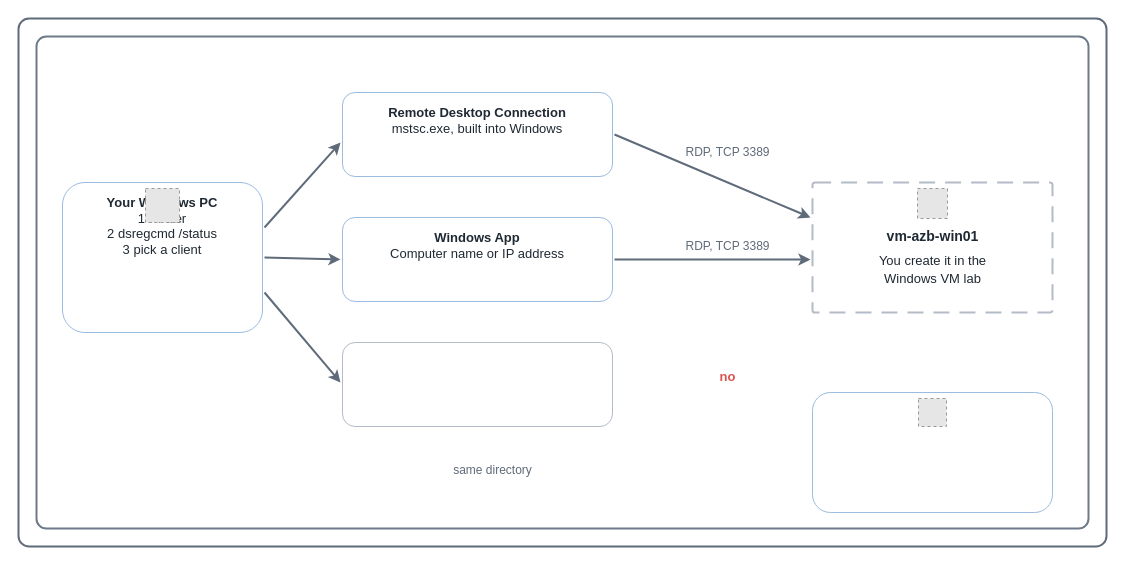
The diagram is 1124 pixels wide and 564 high, and some of its shapes have lost their labels. Grey dashed boxes stand in for pictures. The shapes that lost their labels are listed below. From the top down, each one's box as (x1, y1, x2, y2) in pixels, then its label:
(342, 342, 612, 426): Web browser client Only for AVD and Windows 365
(812, 392, 1052, 512): Microsoft Entra ID PC and VM must be in the same directory
